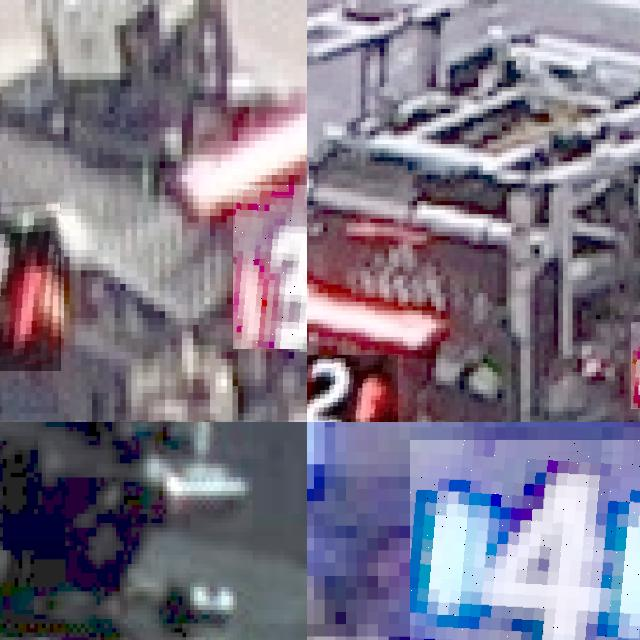B4: (410, 439, 640, 640)
R2: (307, 354, 398, 422)
R3: (232, 185, 307, 348), (0, 202, 61, 372)
